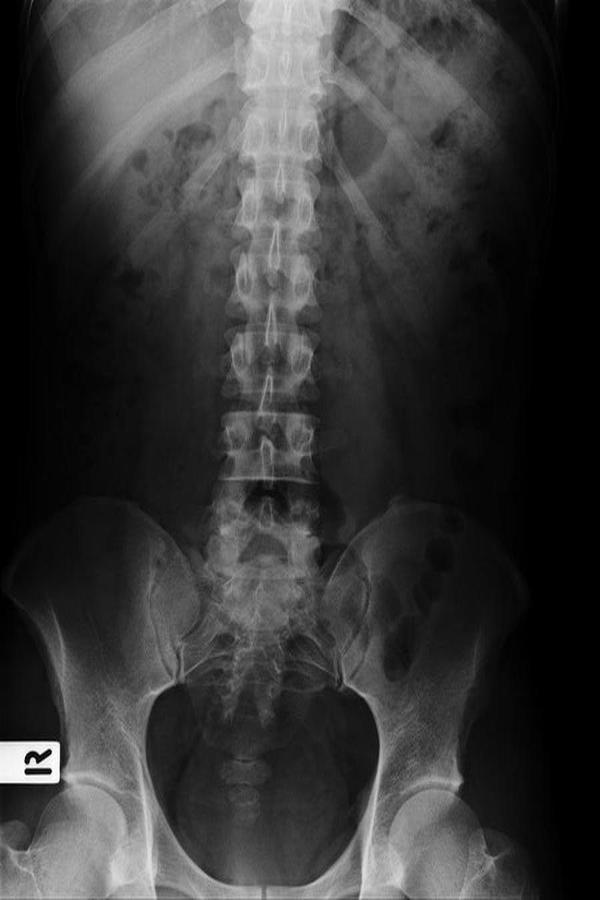lumbar scoliosis: (208, 17, 331, 625)
